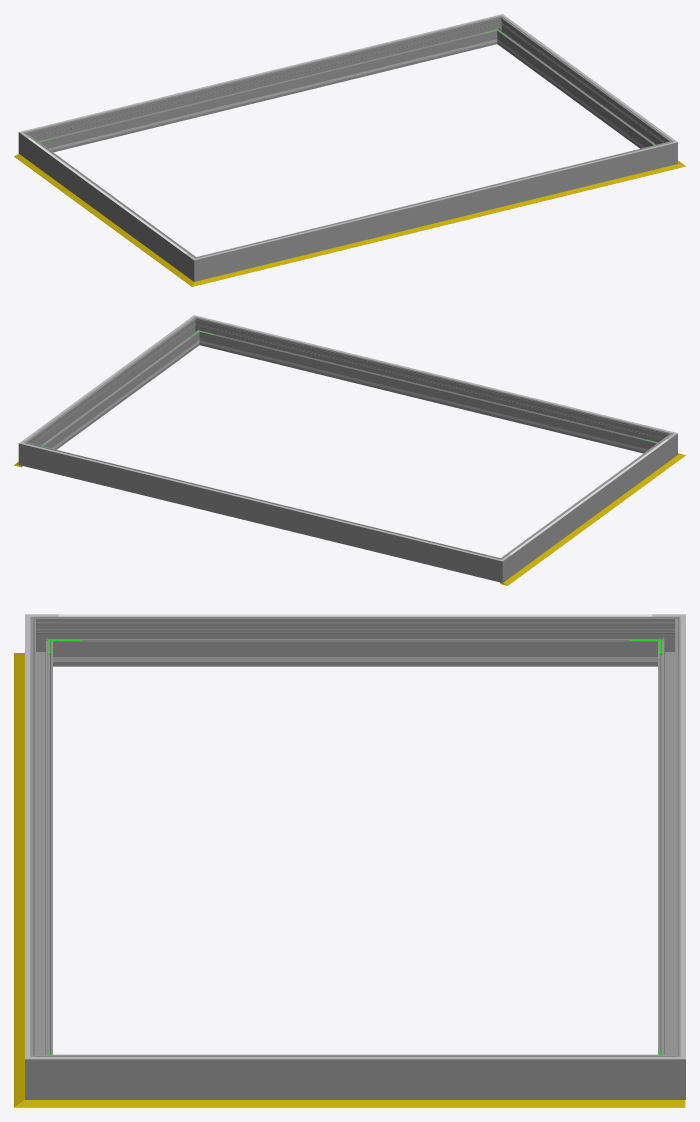
3 renders of one model, top to bottom at view 1: azimuth 30°, elevation 25°; view 2: azimuth 150°, elevation 25°; view 3: azimuth 270°, elevation 25°, orthographic. The views are drawn at different scales.
Parts seen in each view (by area): view 1: 3DGeom-276, 3DGeom-298, 3DGeom-297, 3DGeom-268, 3DGeom-28, 3DGeom-244, 3DGeom-38, 3DGeom-316, 3DGeom-304, 3DGeom-270, 3DGeom-303, 3DGeom-313 (+1 smaller); view 2: 3DGeom-298, 3DGeom-276, 3DGeom-297, 3DGeom-268, 3DGeom-239, 3DGeom-38, 3DGeom-316, 3DGeom-304, 3DGeom-278, 3DGeom-303, 3DGeom-313, 3DGeom-237 (+1 smaller); view 3: 3DGeom-268, 3DGeom-297, 3DGeom-298, 3DGeom-276, 3DGeom-30, 3DGeom-28, 3DGeom-232, 3DGeom-304, 3DGeom-316, 3DGeom-313, 3DGeom-303, 3DGeom-284 (+3 smaller).
Boxes of the visible parts, x1,y1,x2,y2 form: 3DGeom-276: (35, 19, 494, 152); 3DGeom-298: (207, 144, 662, 277); 3DGeom-297: (498, 21, 666, 148); 3DGeom-268: (27, 137, 189, 274); 3DGeom-28: (205, 166, 670, 282); 3DGeom-244: (54, 43, 482, 149); 3DGeom-38: (14, 154, 187, 279); 3DGeom-316: (208, 145, 662, 256); 3DGeom-304: (35, 18, 488, 129); 3DGeom-270: (185, 252, 209, 281); 3DGeom-303: (509, 20, 668, 136); 3DGeom-313: (28, 138, 187, 253); 3DGeom-298: (202, 320, 661, 453); 3DGeom-276: (34, 445, 489, 578); 3DGeom-297: (30, 322, 197, 449); 3DGeom-268: (507, 438, 669, 575); 3DGeom-239: (214, 344, 642, 450); 3DGeom-38: (500, 459, 676, 585); 3DGeom-316: (208, 319, 662, 430); 3DGeom-304: (34, 446, 488, 557); 3DGeom-278: (487, 554, 511, 582); 3DGeom-303: (28, 321, 187, 437); 3DGeom-313: (509, 439, 668, 554); 3DGeom-237: (52, 347, 190, 448); 3DGeom-268: (58, 616, 652, 666); 3DGeom-297: (58, 1054, 652, 1099); 3DGeom-298: (30, 628, 52, 1054); 3DGeom-276: (658, 628, 680, 1054); 3DGeom-30: (47, 1100, 685, 1107); 3DGeom-28: (14, 664, 24, 1092); 3DGeom-232: (85, 657, 625, 661); 3DGeom-304: (680, 628, 685, 1045); 3DGeom-316: (25, 628, 30, 1045); 3DGeom-313: (58, 614, 652, 616); 3DGeom-303: (58, 1057, 652, 1059); 3DGeom-284: (652, 1045, 685, 1099).
Size of the model in its own units: 4.88 by 0.2195 by 3.05.
